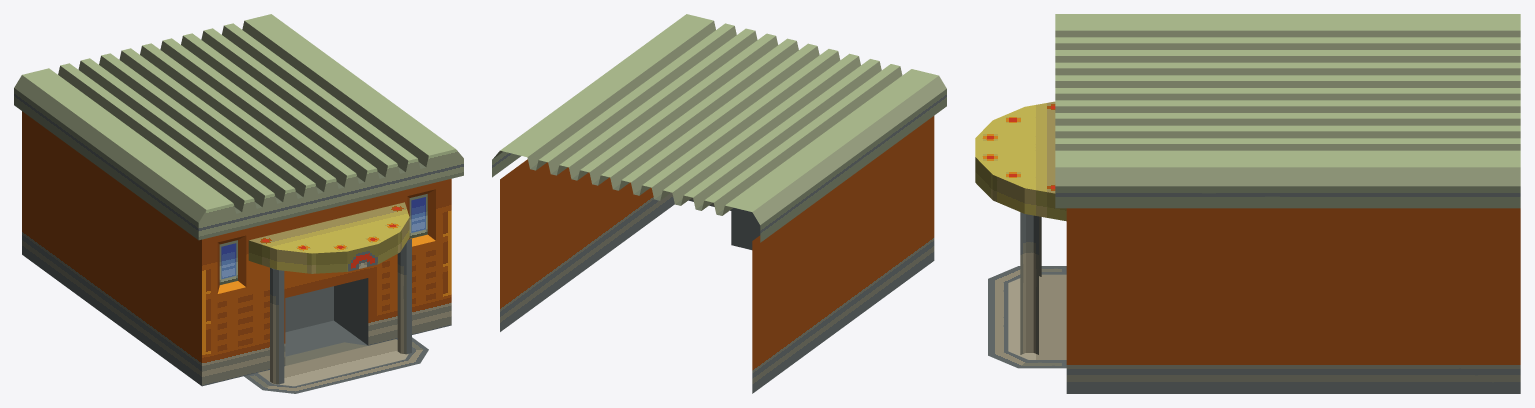
Rendered from gate.glb.
The picture shows the model from 3 angles, left to right: view 1: azimuth 30°, elevation 25°; view 2: azimuth 150°, elevation 25°; view 3: azimuth 270°, elevation 25°; orthographic projection. The views are drawn at different scales.
Visible parts, largest first — view 1: gate; view 2: gate; view 3: gate.
Part boxes in pixels (<box>): gate: <box>14,14,463,393</box>; gate: <box>492,14,946,393</box>; gate: <box>975,14,1520,393</box>.
Bounding box in the file's own units: 6.38 × 4.13 × 9.
Materials: 3 (3 with a texture image).
